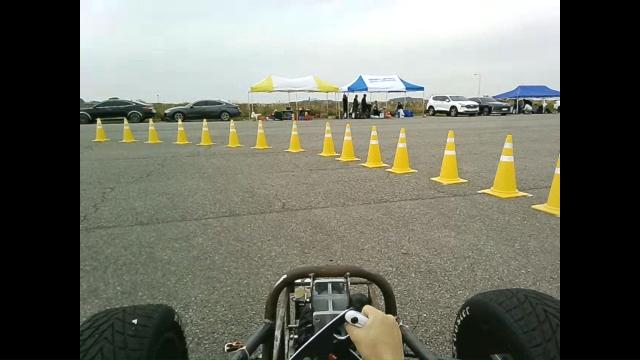yellow cone: (477, 133, 532, 199), (429, 129, 468, 185), (531, 153, 560, 217), (385, 126, 418, 174), (359, 124, 389, 168), (334, 123, 360, 162), (317, 121, 339, 157), (284, 119, 306, 153), (223, 118, 244, 148), (251, 119, 272, 149), (196, 118, 216, 146), (172, 118, 192, 144), (144, 118, 164, 144), (118, 117, 138, 142), (92, 117, 110, 142)
